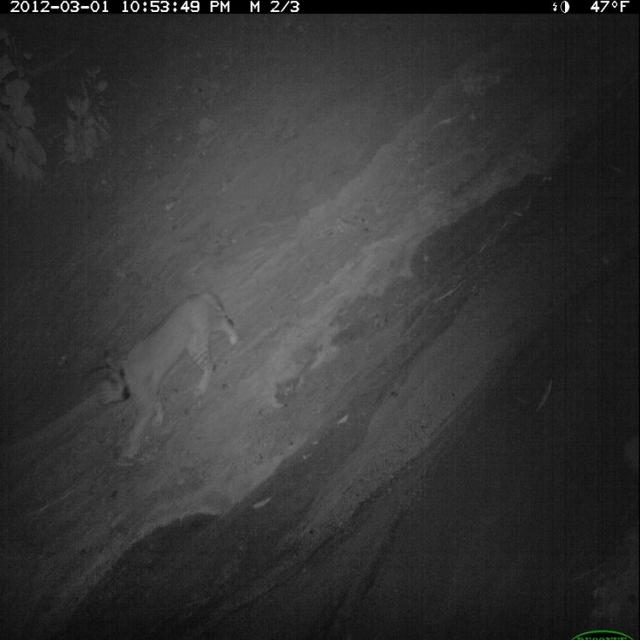bobcat: (90, 285, 242, 468)
